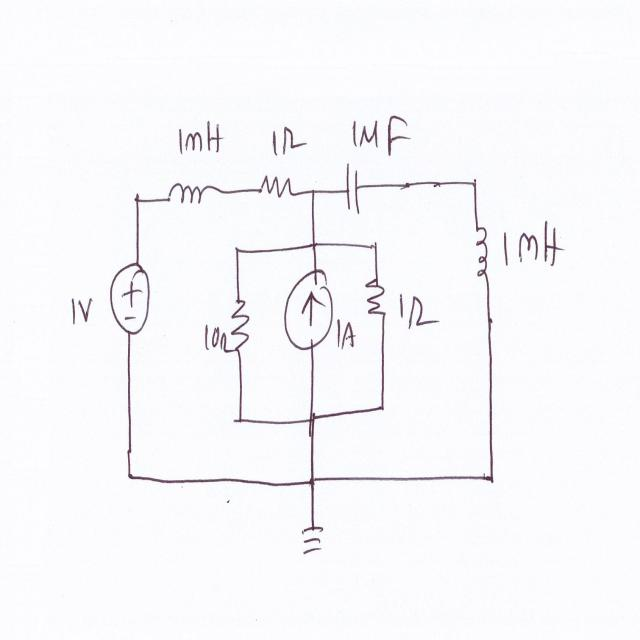capacitor: (342, 156, 365, 222)
current_source: (281, 267, 336, 357)
ground: (298, 513, 328, 565)
inductor: (160, 179, 216, 212), (471, 218, 491, 282)
resistor: (228, 286, 252, 362), (362, 266, 390, 330), (254, 170, 293, 201)
voltage_source: (104, 257, 154, 349)
